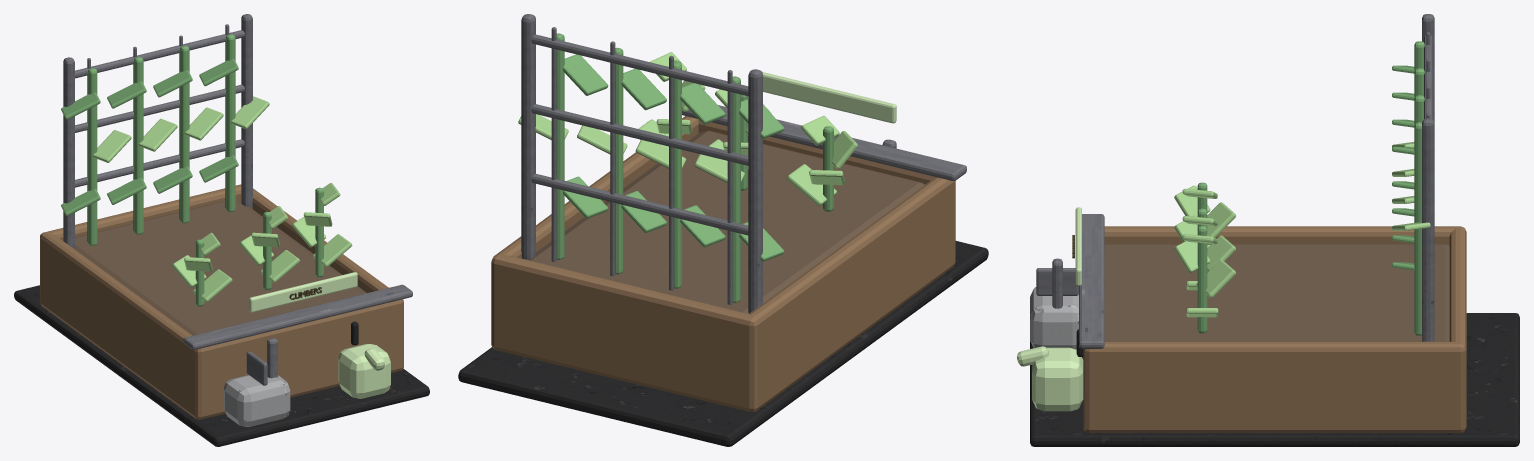
The model's file is decor_bot_planter_row.glb.
3 views of the same model, side by side, from view 1: azimuth 30°, elevation 25°; view 2: azimuth 150°, elevation 25°; view 3: azimuth 270°, elevation 25° (orthographic). The views are drawn at different scales.
Visible parts, largest first — view 1: DEC_BotPlanterRow__Bed_Soil, DEC_BotPlanterRow__Trough_Left, DEC_BotPlanterRow__Trough_Front, DEC_BotPlanterRow__Deck, DEC_BotPlanterRow__Trough_Rail, DEC_BotPlanterRow__Caddy_Body, DEC_BotPlanterRow__Can_Body, DEC_BotPlanterRow__Trough_Back, DEC_BotPlanterRow__Trellis_Post_57, DEC_BotPlanterRow__Trellis_Post_-57, DEC_BotPlanterRow__Trough_Right, DEC_BotPlanterRow__Name_Plate (+28 smaller); view 2: DEC_BotPlanterRow__Trough_Back, DEC_BotPlanterRow__Bed_Soil, DEC_BotPlanterRow__Trough_Left, DEC_BotPlanterRow__Deck, DEC_BotPlanterRow__Trellis_Post_57, DEC_BotPlanterRow__Trellis_Post_-57, DEC_BotPlanterRow__Trough_Rail, DEC_BotPlanterRow__Name_Plate, DEC_BotPlanterRow__Trough_Right, DEC_BotPlanterRow__Trellis_Rail_2, DEC_BotPlanterRow__Trellis_Rail_3, DEC_BotPlanterRow__Trellis_Rail_1 (+25 smaller); view 3: DEC_BotPlanterRow__Trough_Right, DEC_BotPlanterRow__Bed_Soil, DEC_BotPlanterRow__Deck, DEC_BotPlanterRow__Trough_Left, DEC_BotPlanterRow__Trough_Rail, DEC_BotPlanterRow__Trough_Back, DEC_BotPlanterRow__Can_Body, DEC_BotPlanterRow__Trellis_Post_57, DEC_BotPlanterRow__Caddy_Body, DEC_BotPlanterRow__Vine_4, DEC_BotPlanterRow__Bush_3_Stem, DEC_BotPlanterRow__Trough_Front (+9 smaller).
Part boxes in pixels (bbox=[...]): DEC_BotPlanterRow__Bed_Soil: bbox=[74, 199, 366, 335]; DEC_BotPlanterRow__Trough_Left: bbox=[40, 232, 205, 419]; DEC_BotPlanterRow__Trough_Front: bbox=[192, 300, 403, 419]; DEC_BotPlanterRow__Deck: bbox=[14, 285, 429, 446]; DEC_BotPlanterRow__Trough_Rail: bbox=[183, 284, 412, 349]; DEC_BotPlanterRow__Caddy_Body: bbox=[223, 375, 290, 426]; DEC_BotPlanterRow__Can_Body: bbox=[338, 344, 390, 398]; DEC_BotPlanterRow__Trough_Back: bbox=[40, 184, 241, 305]; DEC_BotPlanterRow__Trellis_Post_57: bbox=[241, 14, 252, 208]; DEC_BotPlanterRow__Trellis_Post_-57: bbox=[63, 57, 74, 248]; DEC_BotPlanterRow__Trough_Right: bbox=[252, 188, 403, 370]; DEC_BotPlanterRow__Name_Plate: bbox=[249, 272, 357, 312]; DEC_BotPlanterRow__Trough_Back: bbox=[492, 255, 760, 411]; DEC_BotPlanterRow__Bed_Soil: bbox=[529, 131, 924, 313]; DEC_BotPlanterRow__Trough_Left: bbox=[745, 177, 955, 411]; DEC_BotPlanterRow__Deck: bbox=[458, 241, 988, 446]; DEC_BotPlanterRow__Trellis_Post_57: bbox=[521, 14, 535, 259]; DEC_BotPlanterRow__Trellis_Post_-57: bbox=[748, 69, 762, 313]; DEC_BotPlanterRow__Trough_Rail: bbox=[682, 105, 966, 180]; DEC_BotPlanterRow__Name_Plate: bbox=[762, 72, 896, 123]; DEC_BotPlanterRow__Trough_Right: bbox=[491, 116, 698, 350]; DEC_BotPlanterRow__Trellis_Rail_2: bbox=[531, 104, 748, 165]; DEC_BotPlanterRow__Trellis_Rail_3: bbox=[531, 34, 748, 95]; DEC_BotPlanterRow__Trellis_Rail_1: bbox=[531, 173, 748, 235]; DEC_BotPlanterRow__Trough_Right: bbox=[1084, 341, 1466, 432]; DEC_BotPlanterRow__Bed_Soil: bbox=[1104, 244, 1449, 341]; DEC_BotPlanterRow__Deck: bbox=[1030, 313, 1519, 446]; DEC_BotPlanterRow__Trough_Left: bbox=[1104, 226, 1466, 244]; DEC_BotPlanterRow__Trough_Rail: bbox=[1079, 214, 1104, 348]; DEC_BotPlanterRow__Trough_Back: bbox=[1449, 226, 1466, 432]; DEC_BotPlanterRow__Can_Body: bbox=[1032, 347, 1083, 411]; DEC_BotPlanterRow__Trellis_Post_57: bbox=[1422, 118, 1434, 341]; DEC_BotPlanterRow__Caddy_Body: bbox=[1030, 287, 1078, 349]; DEC_BotPlanterRow__Vine_4: bbox=[1414, 122, 1421, 335]; DEC_BotPlanterRow__Bush_3_Stem: bbox=[1197, 225, 1207, 333]; DEC_BotPlanterRow__Trough_Front: bbox=[1083, 349, 1094, 432].
Size of what is drawn, in the model's own units: 1.44 by 1.65 by 2.36.
9 materials, 3 textured.
